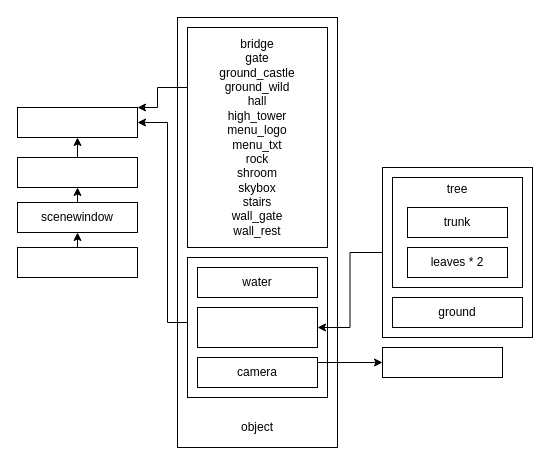
The diagram is 550 pixels wide and 465 high, and some of its shapes have lost their labels. Here are the shapes that lost their labels. From the top down, the centre of each, then its label:
(x=77, y=122): map
(x=77, y=172): scene
(x=77, y=262): main
(x=257, y=327): hierarchical_tree, nature_gen
(x=442, y=362): scripting
